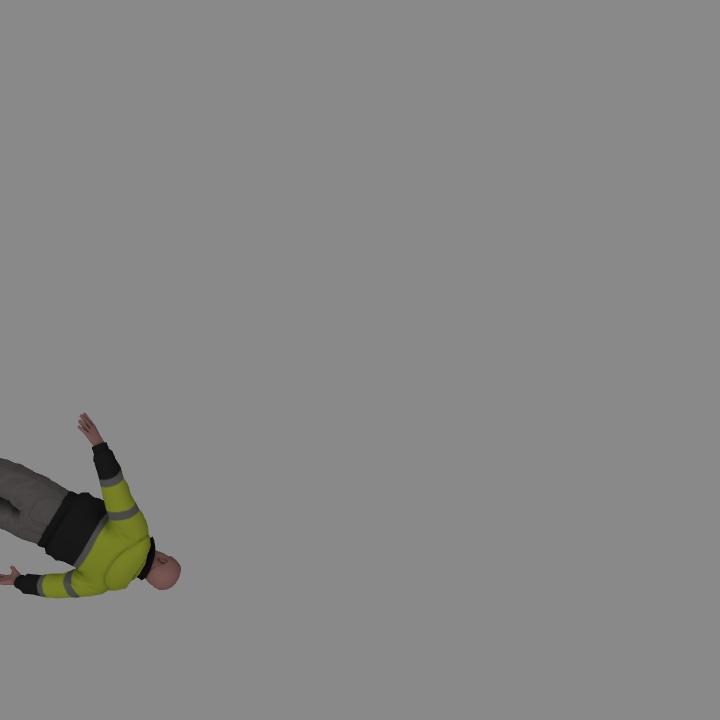victim: (1, 409, 180, 594)
